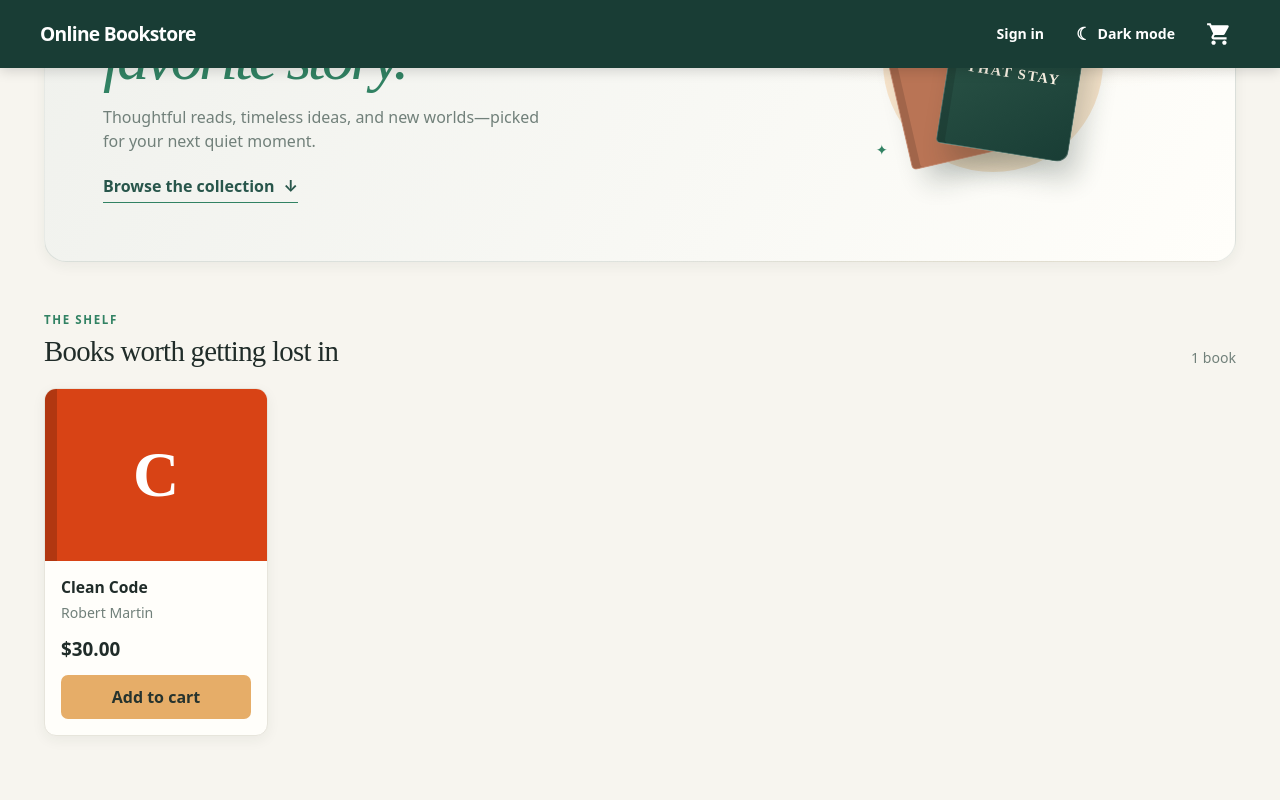
App (logged out) › logs in and then adds the book the user picked
(page scrolled)
Step 1. Click the button with aria-label "Add Clean Code to cart" → (156,698), box x1=61 y1=676 x2=251 y2=720
(page scrolled)
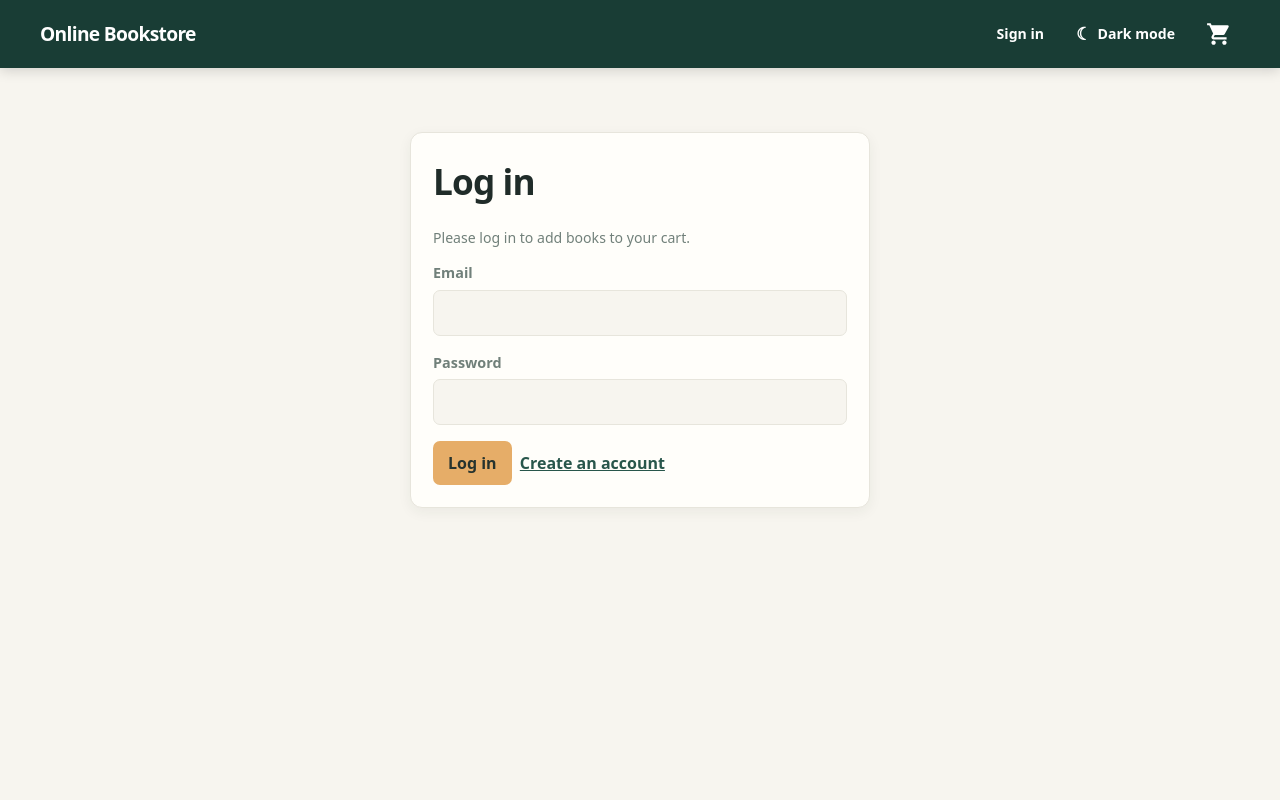
Step 2. Type "asha@example.com" into the field labelled "Email" → (640,313), box x1=433 y1=290 x2=847 y2=336
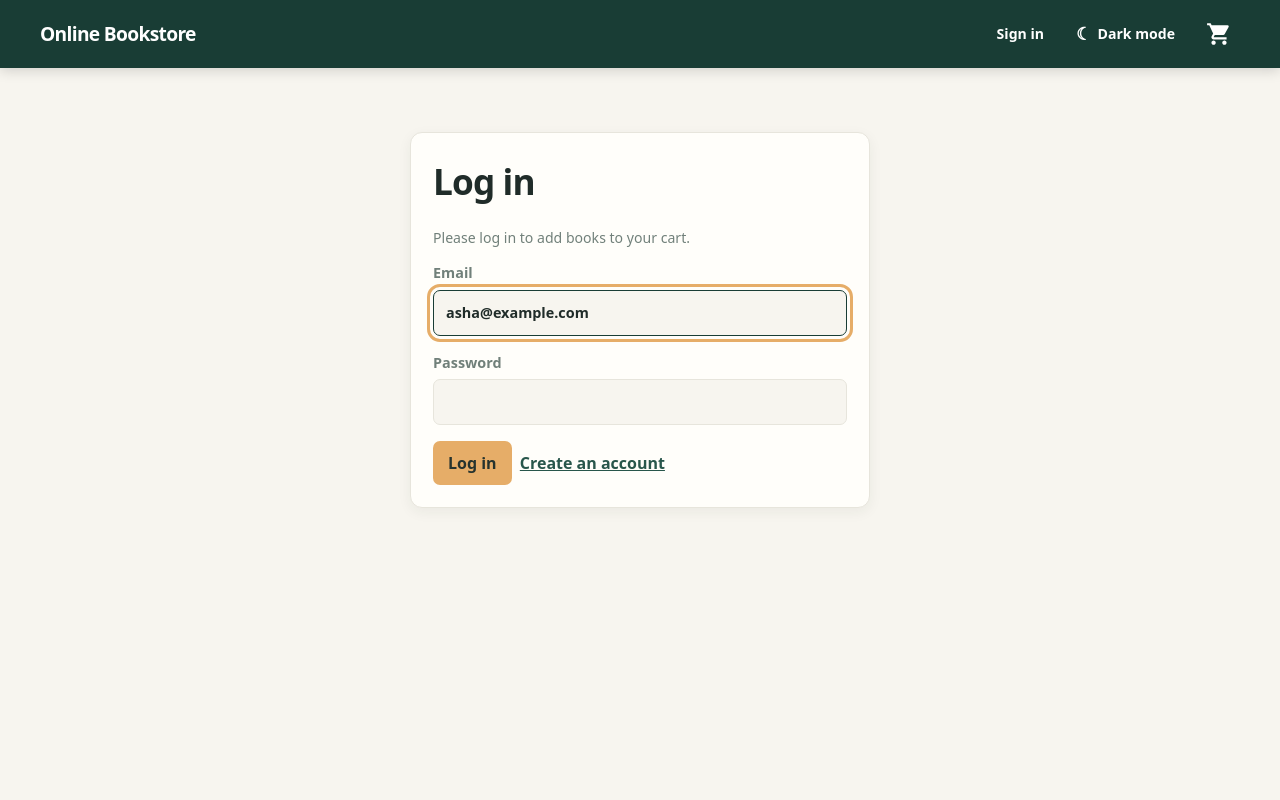
Step 3. Type "password123" into the password field labelled "Password" → (640,402), box x1=433 y1=379 x2=847 y2=425
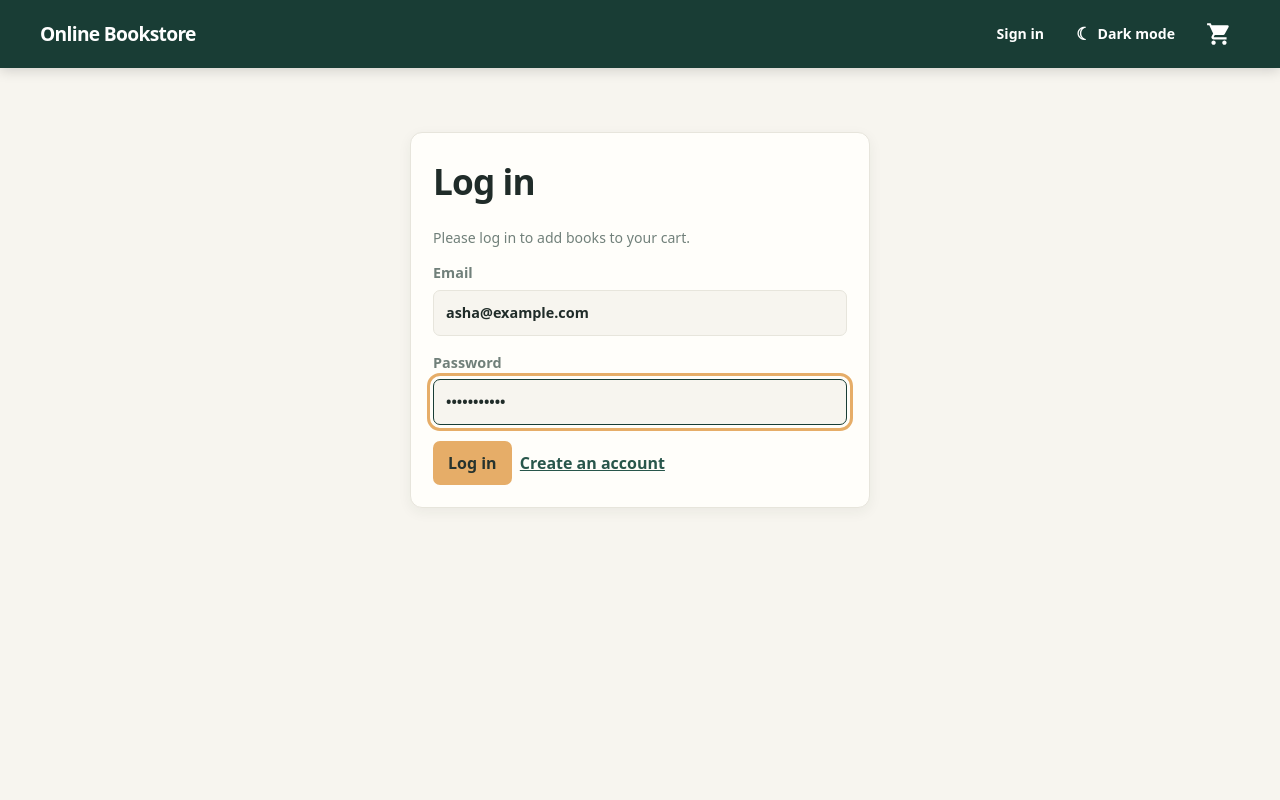
Step 4. Click the button "Log in" → (472,463), box x1=433 y1=441 x2=512 y2=485
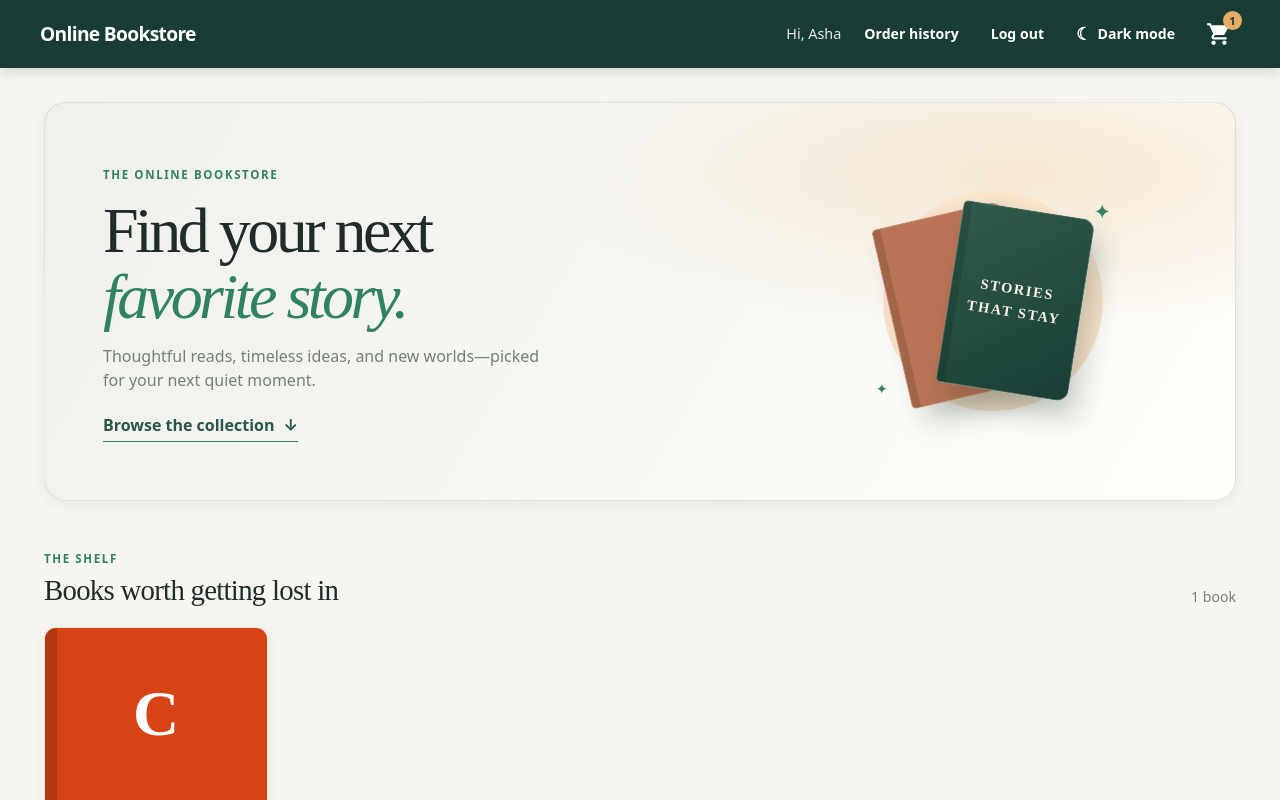
Now the button named "Open cart (1)" is shown, box x1=1198 y1=13 x2=1240 y2=55
Now the text "Hi, Asha" is shown, box x1=786 y1=23 x2=841 y2=45
